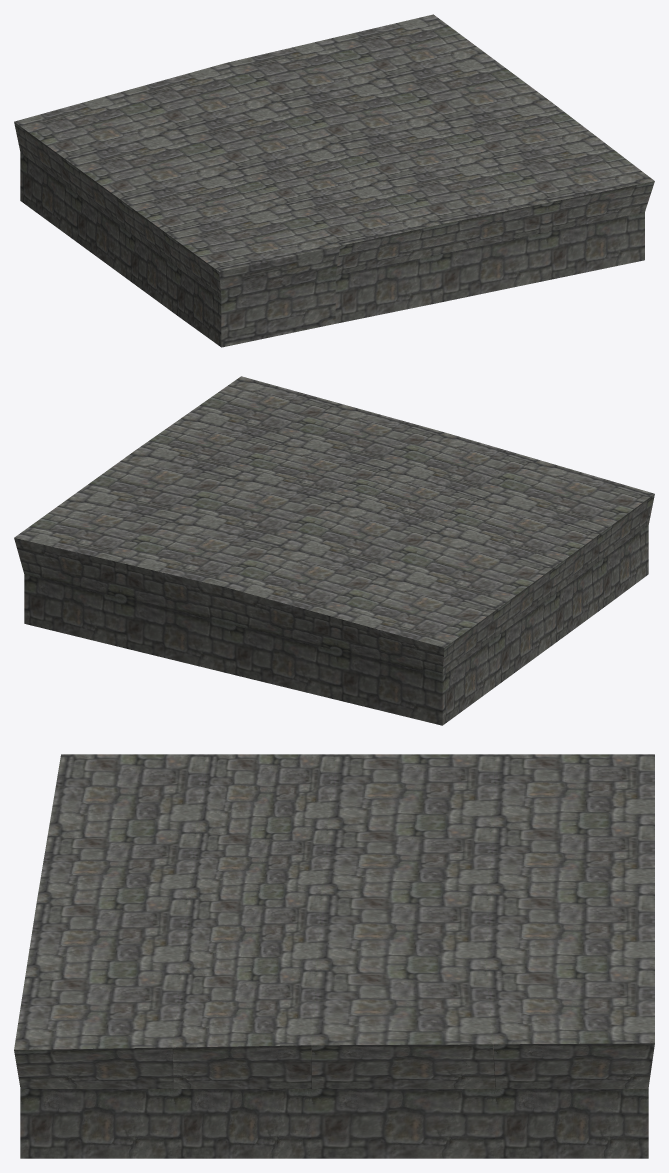
File: shanty_npc_house_combo_Platform.fbx
3 views of the same model, one above another, from view 1: azimuth 30°, elevation 25°; view 2: azimuth 150°, elevation 25°; view 3: azimuth 270°, elevation 25° (orthographic). The views are drawn at different scales.
Visible parts, largest first — view 1: lod_high; view 2: lod_high; view 3: lod_high.
Boxes of the visible parts, bbox=[...] form: lod_high: bbox=[14, 14, 654, 347]; lod_high: bbox=[14, 376, 654, 725]; lod_high: bbox=[14, 754, 654, 1158].
Bounding box in the file's own units: 4558 × 895 × 4167.
Materials: 1 (1 with a texture image).
